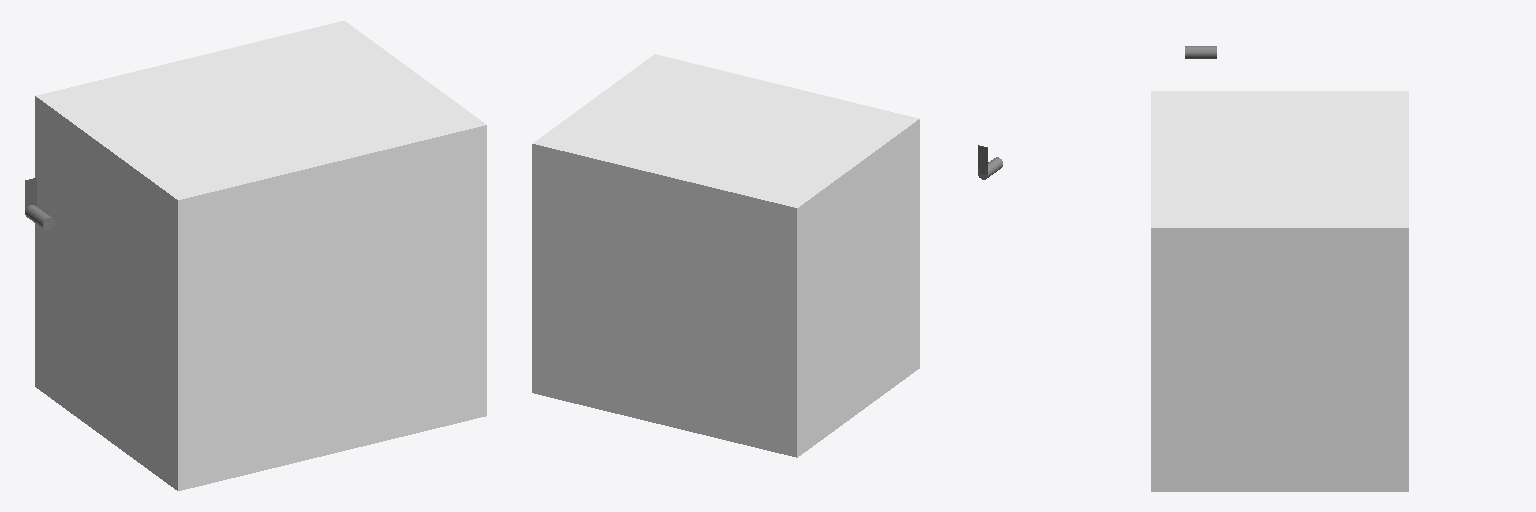
The robot description file, URDF, robot "ur3_robot":
<?xml version="1.0" ?>
<!-- =================================================================================== -->
<!-- |    This document was autogenerated by xacro from ur3_robot_rg2_cam.urdf.xacro   | -->
<!-- |    EDITING THIS FILE BY HAND IS NOT RECOMMENDED                                 | -->
<!-- =================================================================================== -->
<robot name="ur3_robot" xmlns:controller="http://playerstage.sourceforge.net/gazebo/xmlschema/#controller" xmlns:interface="http://playerstage.sourceforge.net/gazebo/xmlschema/#interface" xmlns:sensor="http://playerstage.sourceforge.net/gazebo/xmlschema/#sensor" xmlns:xacro="http://www.ros.org/wiki/xacro">
  <gazebo>
    <plugin filename="libgazebo_ros_control.so" name="ros_control">
      <!--robotNamespace>/</robotNamespace-->
      <!--robotSimType>gazebo_ros_control/DefaultRobotHWSim</robotSimType-->
    </plugin>
    <!--
    <plugin name="gazebo_ros_power_monitor_controller" filename="libgazebo_ros_power_monitor.so">
      <alwaysOn>true</alwaysOn>
      <updateRate>1.0</updateRate>
      <timeout>5</timeout>
      <powerStateTopic>power_state</powerStateTopic>
      <powerStateRate>10.0</powerStateRate>
      <fullChargeCapacity>87.78</fullChargeCapacity>     
      <dischargeRate>-474</dischargeRate>
      <chargeRate>525</chargeRate>
      <dischargeVoltage>15.52</dischargeVoltage>
      <chargeVoltage>16.41</chargeVoltage>
    </plugin>
-->
  </gazebo>
  <!--
  Author: [author]
-->
  <!-- measured from model -->
  <link name="table_ground">
    <visual>
      <geometry>
        <box size="1.0 0.8 0.9"/>
      </geometry>
      <origin rpy="0 0 0" xyz="0.4 0 0.45"/>
      <material name="white">
        <color rgba="1 1 1 1"/>
      </material>
    </visual>
    <collision>
      <geometry>
        <box size="1.0 0.8 0.9"/>
      </geometry>
      <origin rpy="0 0 0" xyz="0.4 0 0.45"/>
    </collision>
    <inertial>
      <origin rpy="0 0 0" xyz="0 0 0"/>
      <mass value="100"/>
      <inertia ixx="1" ixy="0" ixz="0" iyy="1" iyz="0" izz="1"/>
    </inertial>
  </link>
  <link name="base_link">
    <visual>
      <geometry>
        <mesh filename="package://ur_description/meshes/ur3/visual/base.dae"/>
      </geometry>
      <material name="LightGrey">
        <color rgba="0.7 0.7 0.7 1.0"/>
      </material>
    </visual>
    <collision>
      <geometry>
        <mesh filename="package://ur_description/meshes/ur3/collision/base.stl"/>
      </geometry>
    </collision>
    <inertial>
      <mass value="2.0"/>
      <origin rpy="0 0 0" xyz="0.0 0.0 0.0"/>
      <inertia ixx="0.0030531654454" ixy="0.0" ixz="0.0" iyy="0.0030531654454" iyz="0.0" izz="0.005625"/>
    </inertial>
  </link>
  <joint name="shoulder_pan_joint" type="revolute">
    <parent link="base_link"/>
    <child link="shoulder_link"/>
    <origin rpy="0.0 0.0 0.0" xyz="0.0 0.0 0.1519"/>
    <axis xyz="0 0 1"/>
    <limit effort="330.0" lower="-6.28318530718" upper="6.28318530718" velocity="2.16"/>
    <dynamics damping="0.0" friction="0.0"/>
  </joint>
  <link name="shoulder_link">
    <visual>
      <geometry>
        <mesh filename="package://ur_description/meshes/ur3/visual/shoulder.dae"/>
      </geometry>
      <material name="LightGrey">
        <color rgba="0.7 0.7 0.7 1.0"/>
      </material>
    </visual>
    <collision>
      <geometry>
        <mesh filename="package://ur_description/meshes/ur3/collision/shoulder.stl"/>
      </geometry>
    </collision>
    <inertial>
      <mass value="2.0"/>
      <origin rpy="0 0 0" xyz="0.0 0.0 0.0"/>
      <inertia ixx="0.0080931634294" ixy="0.0" ixz="0.0" iyy="0.0080931634294" iyz="0.0" izz="0.005625"/>
    </inertial>
  </link>
  <joint name="shoulder_lift_joint" type="revolute">
    <parent link="shoulder_link"/>
    <child link="upper_arm_link"/>
    <origin rpy="0.0 1.57079632679 0.0" xyz="0.0 0.1198 0.0"/>
    <axis xyz="0 1 0"/>
    <limit effort="330.0" lower="-6.28318530718" upper="6.28318530718" velocity="2.16"/>
    <dynamics damping="0.0" friction="0.0"/>
  </joint>
  <link name="upper_arm_link">
    <visual>
      <geometry>
        <mesh filename="package://ur_description/meshes/ur3/visual/upperarm.dae"/>
      </geometry>
      <material name="LightGrey">
        <color rgba="0.7 0.7 0.7 1.0"/>
      </material>
    </visual>
    <collision>
      <geometry>
        <mesh filename="package://ur_description/meshes/ur3/collision/upperarm.stl"/>
      </geometry>
    </collision>
    <inertial>
      <mass value="3.42"/>
      <origin rpy="0 0 0" xyz="0.0 0.0 0.121825"/>
      <inertia ixx="0.0217284832211" ixy="0.0" ixz="0.0" iyy="0.0217284832211" iyz="0.0" izz="0.00961875"/>
    </inertial>
  </link>
  <joint name="elbow_joint" type="revolute">
    <parent link="upper_arm_link"/>
    <child link="forearm_link"/>
    <origin rpy="0.0 0.0 0.0" xyz="0.0 -0.0925 0.24365"/>
    <axis xyz="0 1 0"/>
    <limit effort="150.0" lower="-3.14159265359" upper="3.14159265359" velocity="3.15"/>
    <dynamics damping="0.0" friction="0.0"/>
  </joint>
  <link name="forearm_link">
    <visual>
      <geometry>
        <mesh filename="package://ur_description/meshes/ur3/visual/forearm.dae"/>
      </geometry>
      <material name="LightGrey">
        <color rgba="0.7 0.7 0.7 1.0"/>
      </material>
    </visual>
    <collision>
      <geometry>
        <mesh filename="package://ur_description/meshes/ur3/collision/forearm.stl"/>
      </geometry>
    </collision>
    <inertial>
      <mass value="1.26"/>
      <origin rpy="0 0 0" xyz="0.0 0.0 0.106625"/>
      <inertia ixx="0.00654680644378" ixy="0.0" ixz="0.0" iyy="0.00654680644378" iyz="0.0" izz="0.00354375"/>
    </inertial>
  </link>
  <joint name="wrist_1_joint" type="revolute">
    <parent link="forearm_link"/>
    <child link="wrist_1_link"/>
    <origin rpy="0.0 1.57079632679 0.0" xyz="0.0 0.0 0.21325"/>
    <axis xyz="0 1 0"/>
    <limit effort="54.0" lower="-6.28318530718" upper="6.28318530718" velocity="3.2"/>
    <dynamics damping="0.0" friction="0.0"/>
  </joint>
  <link name="wrist_1_link">
    <visual>
      <geometry>
        <mesh filename="package://ur_description/meshes/ur3/visual/wrist1.dae"/>
      </geometry>
      <material name="LightGrey">
        <color rgba="0.7 0.7 0.7 1.0"/>
      </material>
    </visual>
    <collision>
      <geometry>
        <mesh filename="package://ur_description/meshes/ur3/collision/wrist1.stl"/>
      </geometry>
    </collision>
    <inertial>
      <mass value="0.8"/>
      <origin rpy="0 0 0" xyz="0.0 0.0 0.0"/>
      <inertia ixx="0.002084999166" ixy="0.0" ixz="0.0" iyy="0.002084999166" iyz="0.0" izz="0.00225"/>
    </inertial>
  </link>
  <joint name="wrist_2_joint" type="revolute">
    <parent link="wrist_1_link"/>
    <child link="wrist_2_link"/>
    <origin rpy="0.0 0.0 0.0" xyz="0.0 0.08505 0.0"/>
    <axis xyz="0 0 1"/>
    <limit effort="54.0" lower="-6.28318530718" upper="6.28318530718" velocity="3.2"/>
    <dynamics damping="0.0" friction="0.0"/>
  </joint>
  <link name="wrist_2_link">
    <visual>
      <geometry>
        <mesh filename="package://ur_description/meshes/ur3/visual/wrist2.dae"/>
      </geometry>
      <material name="LightGrey">
        <color rgba="0.7 0.7 0.7 1.0"/>
      </material>
    </visual>
    <collision>
      <geometry>
        <mesh filename="package://ur_description/meshes/ur3/collision/wrist2.stl"/>
      </geometry>
    </collision>
    <inertial>
      <mass value="0.8"/>
      <origin rpy="0 0 0" xyz="0.0 0.0 0.0"/>
      <inertia ixx="0.002084999166" ixy="0.0" ixz="0.0" iyy="0.002084999166" iyz="0.0" izz="0.00225"/>
    </inertial>
  </link>
  <joint name="wrist_3_joint" type="revolute">
    <parent link="wrist_2_link"/>
    <child link="wrist_3_link"/>
    <origin rpy="0.0 0.0 0.0" xyz="0.0 0.0 0.08535"/>
    <axis xyz="0 1 0"/>
    <limit effort="54.0" lower="-6.28318530718" upper="6.28318530718" velocity="3.2"/>
    <dynamics damping="0.0" friction="0.0"/>
  </joint>
  <link name="wrist_3_link">
    <visual>
      <geometry>
        <mesh filename="package://ur_description/meshes/ur3/visual/wrist3.dae"/>
      </geometry>
      <material name="LightGrey">
        <color rgba="0.7 0.7 0.7 1.0"/>
      </material>
    </visual>
    <collision>
      <geometry>
        <mesh filename="package://ur_description/meshes/ur3/collision/wrist3.stl"/>
      </geometry>
    </collision>
    <inertial>
      <mass value="0.35"/>
      <origin rpy="0 0 0" xyz="0.0 0.0 0.0"/>
      <inertia ixx="0.000912187135125" ixy="0.0" ixz="0.0" iyy="0.000912187135125" iyz="0.0" izz="0.000984375"/>
    </inertial>
  </link>
  <joint name="ee_fixed_joint" type="fixed">
    <parent link="wrist_3_link"/>
    <child link="ee_link"/>
    <origin rpy="0.0 0.0 1.57079632679" xyz="0.0 0.0819 0.0"/>
  </joint>
  <link name="ee_link">
    <collision>
      <geometry>
        <box size="0.01 0.01 0.01"/>
      </geometry>
      <origin rpy="0 0 0" xyz="-0.01 0 0"/>
    </collision>
  </link>
  <transmission name="shoulder_pan_trans">
    <type>transmission_interface/SimpleTransmission</type>
    <joint name="shoulder_pan_joint">
      <hardwareInterface>hardware_interface/PositionJointInterface</hardwareInterface>
    </joint>
    <actuator name="shoulder_pan_motor">
      <mechanicalReduction>1</mechanicalReduction>
    </actuator>
  </transmission>
  <transmission name="shoulder_lift_trans">
    <type>transmission_interface/SimpleTransmission</type>
    <joint name="shoulder_lift_joint">
      <hardwareInterface>hardware_interface/PositionJointInterface</hardwareInterface>
    </joint>
    <actuator name="shoulder_lift_motor">
      <mechanicalReduction>1</mechanicalReduction>
    </actuator>
  </transmission>
  <transmission name="elbow_trans">
    <type>transmission_interface/SimpleTransmission</type>
    <joint name="elbow_joint">
      <hardwareInterface>hardware_interface/PositionJointInterface</hardwareInterface>
    </joint>
    <actuator name="elbow_motor">
      <mechanicalReduction>1</mechanicalReduction>
    </actuator>
  </transmission>
  <transmission name="wrist_1_trans">
    <type>transmission_interface/SimpleTransmission</type>
    <joint name="wrist_1_joint">
      <hardwareInterface>hardware_interface/PositionJointInterface</hardwareInterface>
    </joint>
    <actuator name="wrist_1_motor">
      <mechanicalReduction>1</mechanicalReduction>
    </actuator>
  </transmission>
  <transmission name="wrist_2_trans">
    <type>transmission_interface/SimpleTransmission</type>
    <joint name="wrist_2_joint">
      <hardwareInterface>hardware_interface/PositionJointInterface</hardwareInterface>
    </joint>
    <actuator name="wrist_2_motor">
      <mechanicalReduction>1</mechanicalReduction>
    </actuator>
  </transmission>
  <transmission name="wrist_3_trans">
    <type>transmission_interface/SimpleTransmission</type>
    <joint name="wrist_3_joint">
      <hardwareInterface>hardware_interface/PositionJointInterface</hardwareInterface>
    </joint>
    <actuator name="wrist_3_motor">
      <mechanicalReduction>1</mechanicalReduction>
    </actuator>
  </transmission>
  <!-- nothing to do here at the moment -->
  <!-- ROS base_link to UR 'Base' Coordinates transform -->
  <link name="base"/>
  <joint name="base_link-base_fixed_joint" type="fixed">
    <!-- NOTE: this rotation is only needed as long as base_link itself is
                 not corrected wrt the real robot (ie: rotated over 180
                 degrees)
      -->
    <origin rpy="0 0 -3.14159265359" xyz="0 0 0"/>
    <parent link="base_link"/>
    <child link="base"/>
  </joint>
  <!-- Frame coincident with all-zeros TCP on UR controller -->
  <link name="tool0"/>
  <joint name="wrist_3_link-tool0_fixed_joint" type="fixed">
    <origin rpy="-1.57079632679 0 0" xyz="0 0.0819 0"/>
    <parent link="wrist_3_link"/>
    <child link="tool0"/>
  </joint>
  <joint name="platform_mount" type="fixed">
    <parent link="table_ground"/>
    <child link="base_link"/>
    <origin rpy="0 0 3.14159265359" xyz="0 0 0.9"/>
  </joint>
  <link name="rg2_body_link">
    <visual>
      <origin rpy="0 1.5707963268 0" xyz="0.051 0.0085 0.0015"/>
      <geometry>
        <mesh filename="package://ur5_rg2_description/meshes/rg2_gripper/dae_rg2_.dae" scale="0.001 0.001 0.001"/>
      </geometry>
      <material name="White">
        <color rgba="1.0 1.0 1.0 1.0"/>
      </material>
    </visual>
    <collision>
      <origin rpy="0 1.5707963268 0" xyz="0.051 0.0085 0.0015"/>
      <geometry>
        <mesh filename="package://ur5_rg2_description/meshes/rg2_gripper/rg2_.stl" scale="0.001 0.001 0.001"/>
      </geometry>
    </collision>
    <inertial>
      <mass value="1"/>
      <inertia ixx="1" ixy="0.0" ixz="0.0" iyy="1" iyz="0.0" izz="1"/>
    </inertial>
  </link>
  <joint name="rg2_eef_joint" type="fixed">
    <origin rpy="0 0 0" xyz="0.195 0.0 0.0"/>
    <parent link="rg2_body_link"/>
    <child link="rg2_eef_link"/>
  </joint>
  <link name="rg2_eef_link"/>
  <joint name="board_rg2_joint" type="fixed">
    <origin rpy="1.5707963268 0 1.5707963268" xyz="0 0.0 0.0"/>
    <parent link="rg2_body_link"/>
    <child link="board_link"/>
  </joint>
  <link name="board_link">
    <visual>
      <geometry>
        <box size="0.1 0.04 0.001"/>
      </geometry>
      <origin rpy="0 0 0" xyz="0.05 0 0.0005"/>
      <material name="white">
        <color rgba="0.5 0.5 0.5 1"/>
      </material>
    </visual>
    <collision>
      <geometry>
        <box size="0.1 0.04 0.001"/>
      </geometry>
      <origin rpy="0 0 0" xyz="0.05 0 0.0005"/>
    </collision>
    <inertial>
      <origin rpy="0 0 0" xyz="0 0 0"/>
      <mass value="0.1"/>
      <inertia ixx="1" ixy="0" ixz="0" iyy="1" iyz="0" izz="1"/>
    </inertial>
  </link>
  <!-- camera link -->
  <joint name="camera_rg2_joint" type="fixed">
    <origin rpy="0 0 0" xyz="0 0.1 0.0"/>
    <parent link="rg2_body_link"/>
    <child link="camera_link"/>
  </joint>
  <link name="camera_link">
    <visual>
      <geometry>
        <cylinder length="0.1" radius="0.02"/>
      </geometry>
      <origin rpy="0 1.5707963268 0" xyz="0.05 0.0 0.0"/>
      <material name="White">
        <color rgba="0.588235294118 0.588235294118 0.588235294118 1.0"/>
      </material>
    </visual>
    <collision>
      <geometry>
        <cylinder length="0.1" radius="0.02"/>
      </geometry>
      <origin rpy="0 1.5707963268 0" xyz="0.05 0.0 0.0"/>
    </collision>
    <inertial>
      <mass value="0.6"/>
      <inertia ixx="1" ixy="0.0" ixz="0.0" iyy="1" iyz="0.0" izz="1"/>
    </inertial>
  </link>
  <joint name="camera_eef_joint" type="fixed">
    <origin rpy="0 0 0" xyz="0.1 0.0 0.0"/>
    <parent link="camera_link"/>
    <child link="camera_eef_link"/>
  </joint>
  <link name="camera_eef_link"/>
  <joint name="ee_mount" type="fixed">
    <parent link="ee_link"/>
    <child link="rg2_body_link"/>
    <!-- <origin rpy="1.5707963268 0 0" xyz="0.01 0 0"/> -->
    <origin rpy="1.5707963268 0 0" xyz="0.0 0 0.0"/>
  </joint>
  <!-- world will be root link-->
  <!-- <link name="world" />
  <joint name="world_joint" type="fixed">
    <parent link="world" />
    <child link = "ground_base1" />
    <origin xyz="0.0 0.0 0.0" rpy="0.0 0.0 0.0" />
  </joint> -->
</robot>

--- What the picture shows (computed from the rendered views, not written in the file) ---
Views: 3 orthographic renders of the robot side by side, from view 1: azimuth 30°, elevation 25°; view 2: azimuth 150°, elevation 25°; view 3: azimuth 270°, elevation 25°.
Robot: ur3_robot — 16 links, 15 joints (6 revolute, 9 fixed); root link table_ground; default pose: every joint at zero.
Links seen in each view (by area): view 1: table_ground; view 2: table_ground; view 3: table_ground.
Boxes of the visible links, box(x1,y1,x2,y2) form: table_ground: box(35, 21, 486, 490); table_ground: box(532, 54, 919, 457); table_ground: box(1151, 91, 1408, 491).
Bounding box of the posed robot: 1.38 × 0.8 × 0.9665 m (x, y, z).
0 mesh visuals loaded from 8 distinct referenced files (none loaded); not drawn: 8 (reference not matched to a file when rendering).